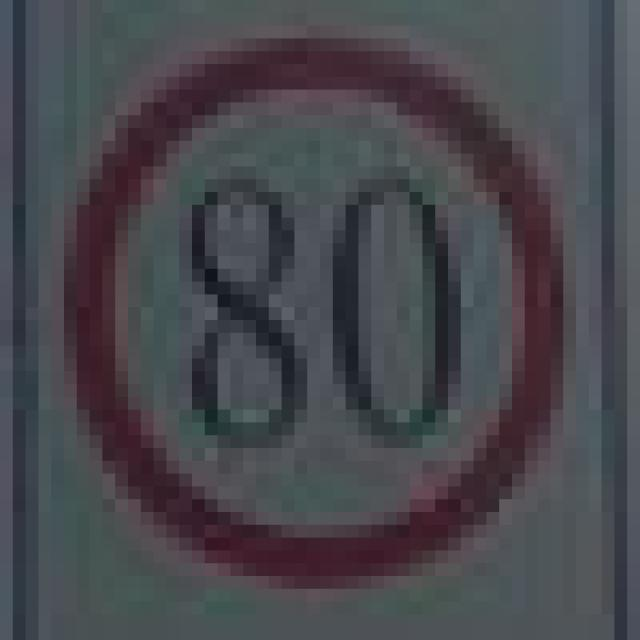speed_limit_50: (51, 26, 563, 576)
